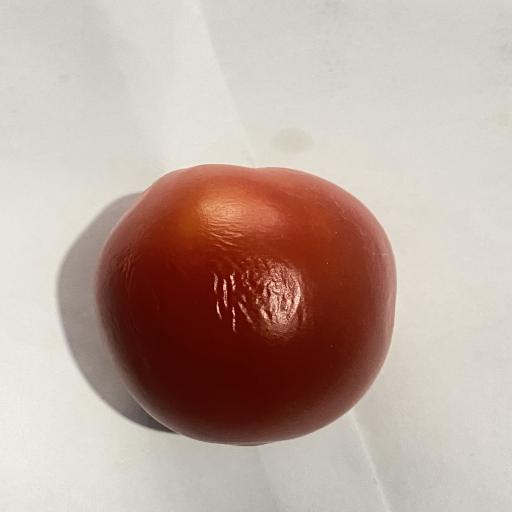overipe: (95, 165, 396, 445)
